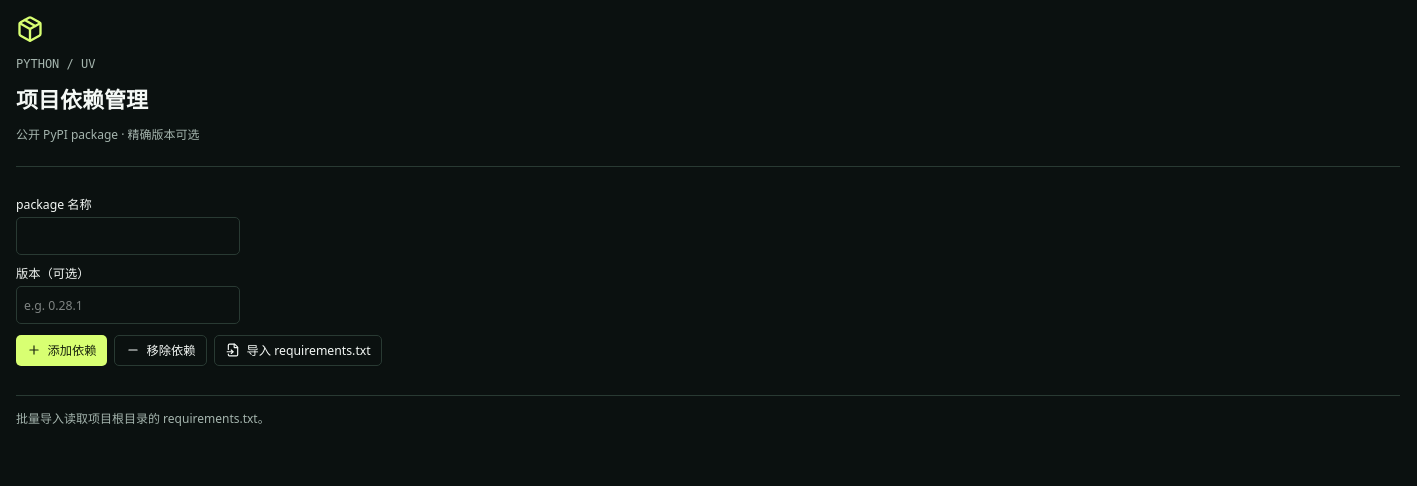
Test: PythonDependenciesPanel requirements.txt import › shows a safe error and submits nothing when requirements.txt does not exist
The width and height of the screenshot is (1417, 486).
Click the button with aria-label "Import requirements.txt" at [298, 350], box [214, 334, 382, 366]
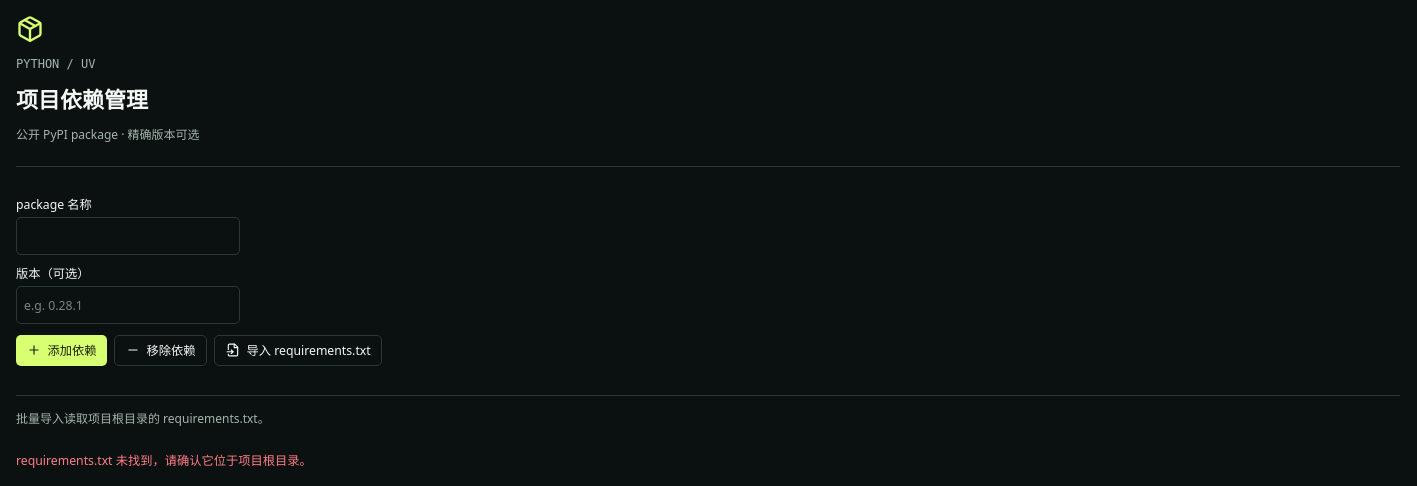
Check: the message "requirements.txt 未找到，请确认它位于项目根目录。" is shown, box [16, 452, 312, 469]
